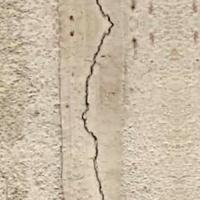crack: (65, 0, 135, 199)
